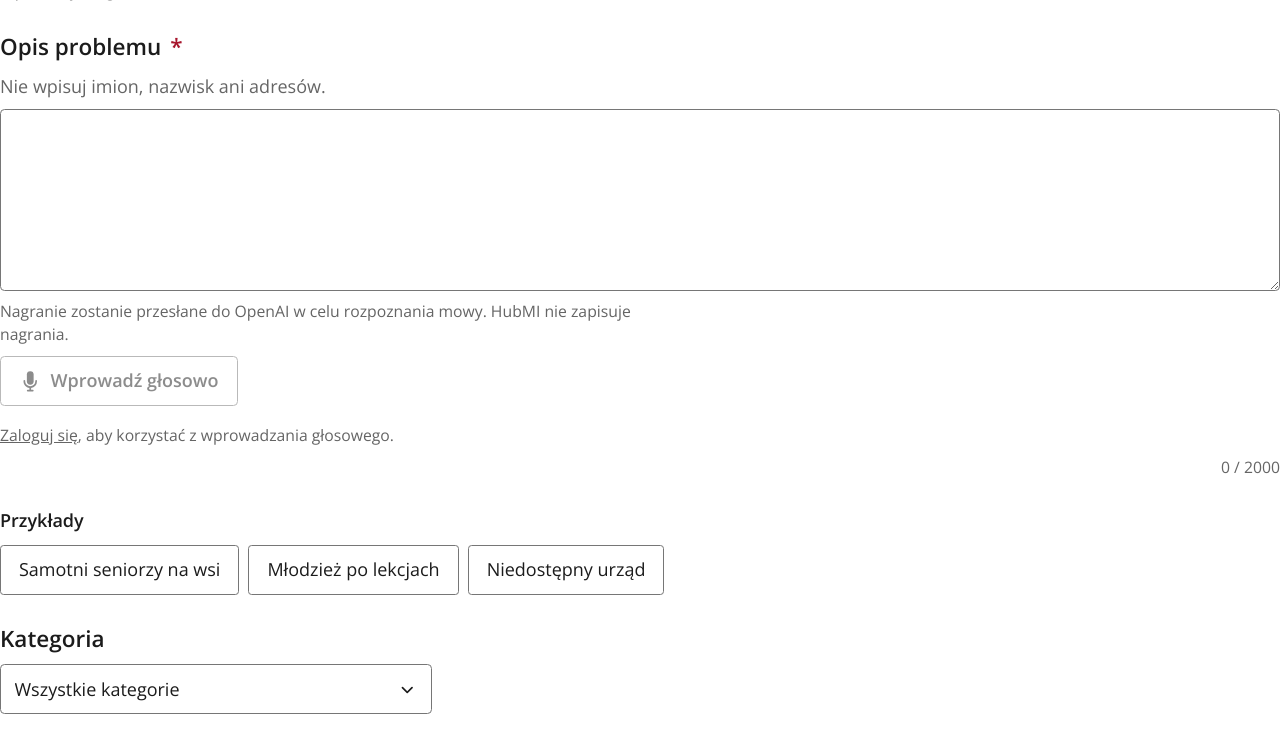
Test: MatchExperience › invites a new challenge when nothing fits, without the problem in the URL
This screenshot has width=1280, height=741.
Type "Na drodze powiatowej jest dziura w jezdni" into the text box labelled "Opis problemu" at [640, 200], box [0,109,1279,291]
(page scrolled)
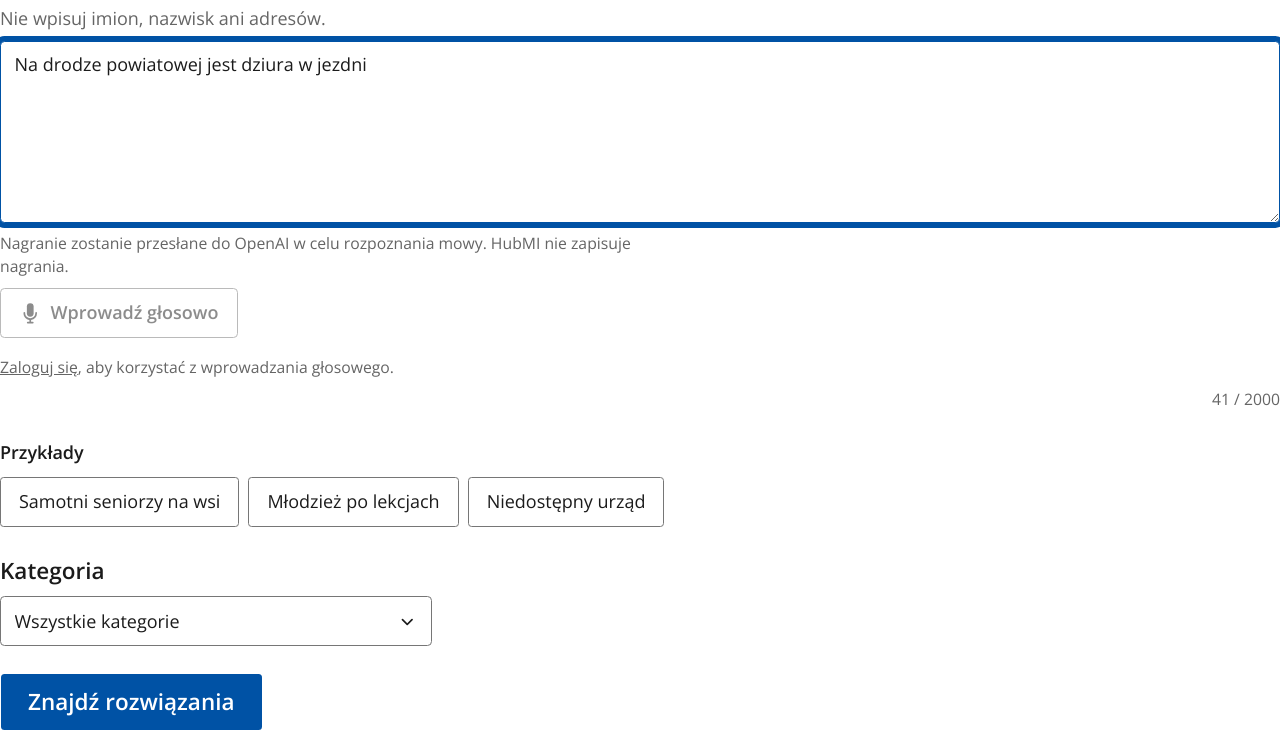
Click the button "Znajdź rozwiązania" at [131, 702], box [0,673,262,731]
(page scrolled)
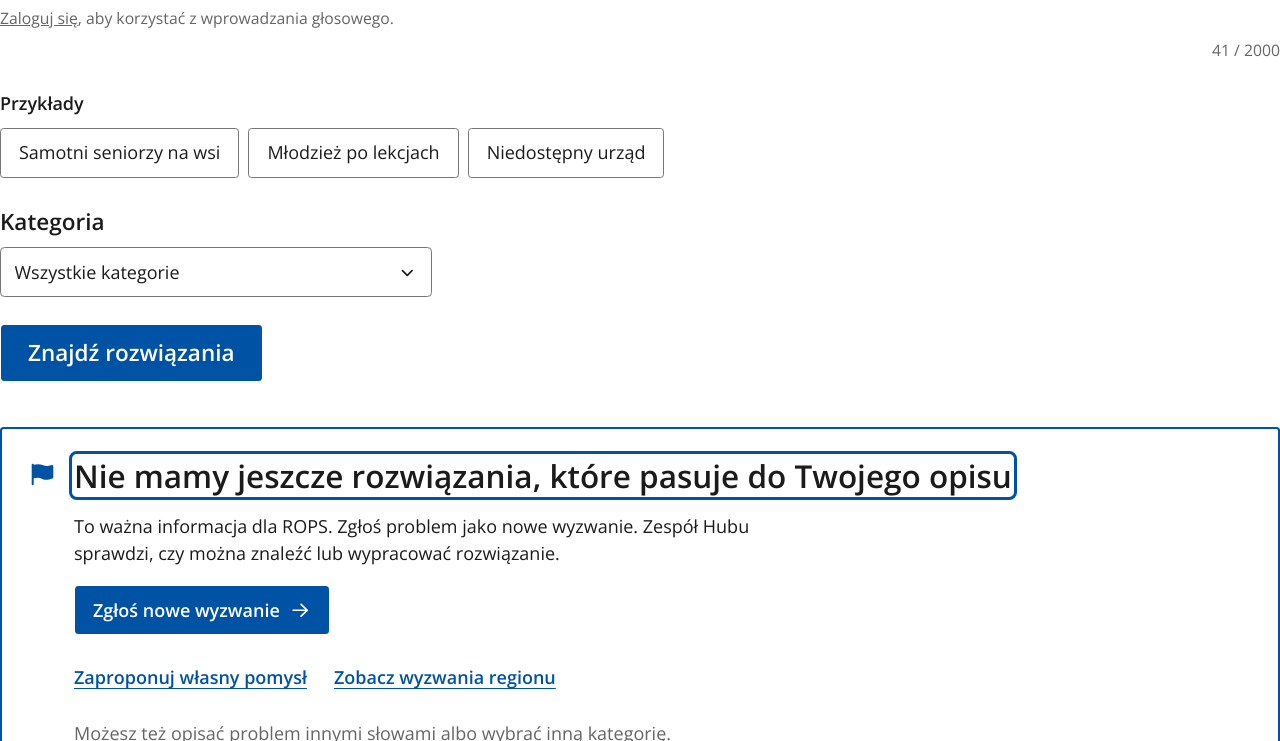
Expected: the text "To ważna informacja dla ROPS. Zgłoś problem jako nowe wyzwanie. Zespół Hubu sprawdzi, czy można znaleźć lub wypracować r" is shown, [74,514,749,565]
